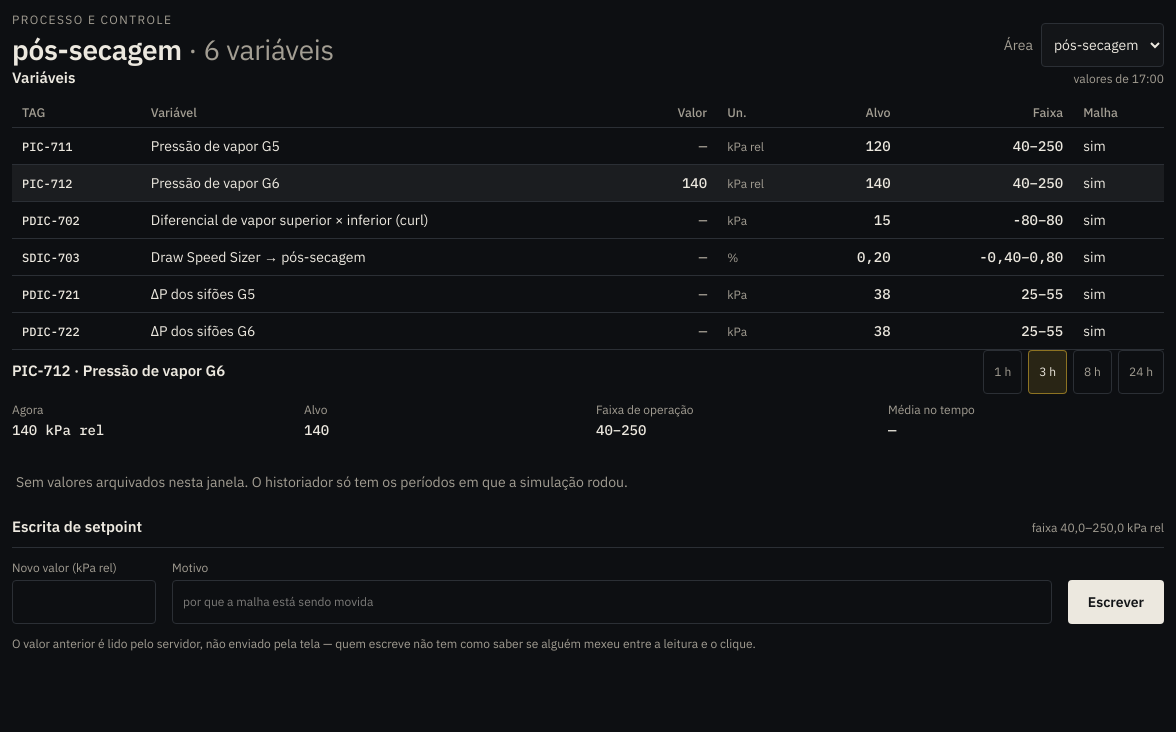
Scenario: Processo · escrita de setpoint › confirma a escrita aceita dizendo o valor anterior
Expected: the button "Escrever" is shown, [1068, 580, 1164, 624]
Type "160" into the field labelled "Novo valor (kPa rel)". click: (84, 602)
box: [12, 580, 156, 624]
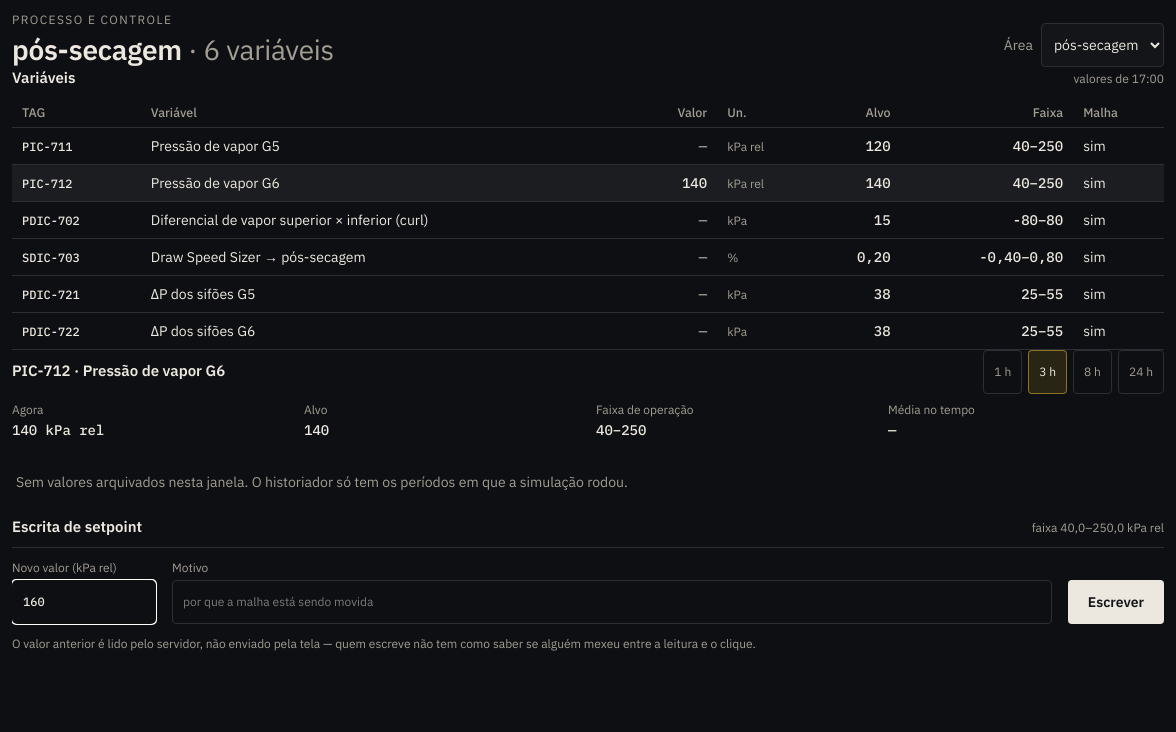
Type "umidade final acima do alvo" into the field labelled "Motivo". click: (612, 602)
box: [172, 580, 1052, 624]
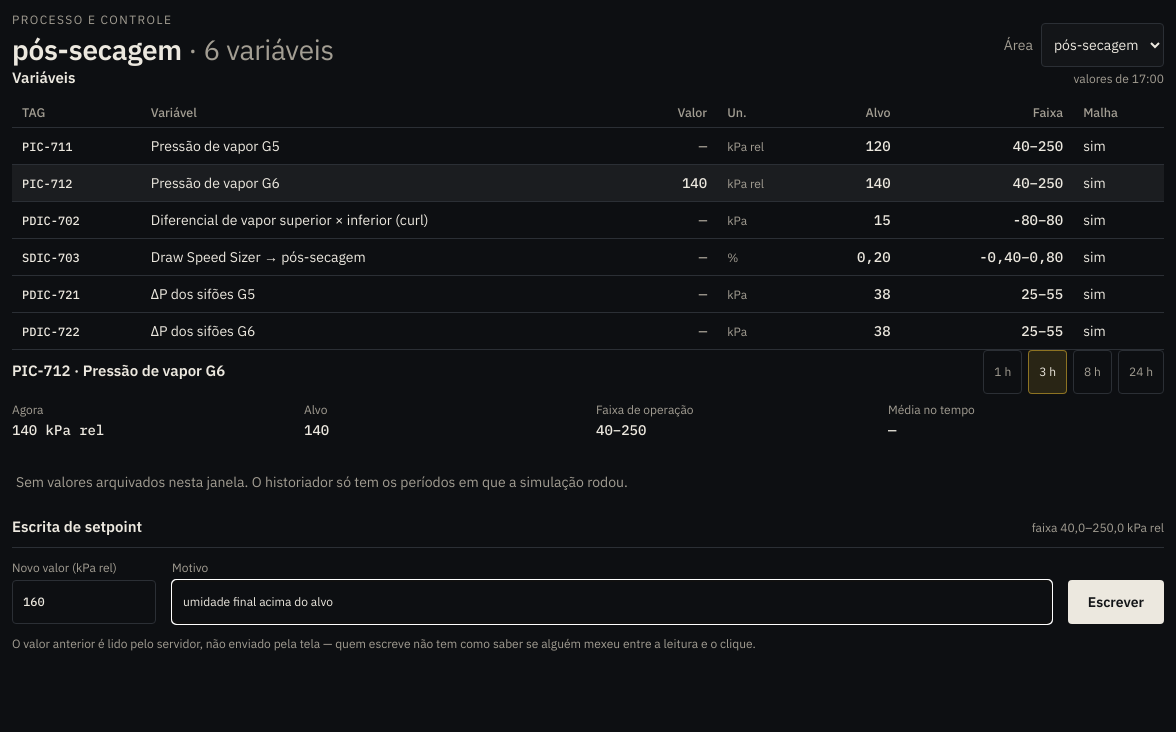
Click the button "Escrever". click: (1116, 602)
box: [1068, 580, 1164, 624]
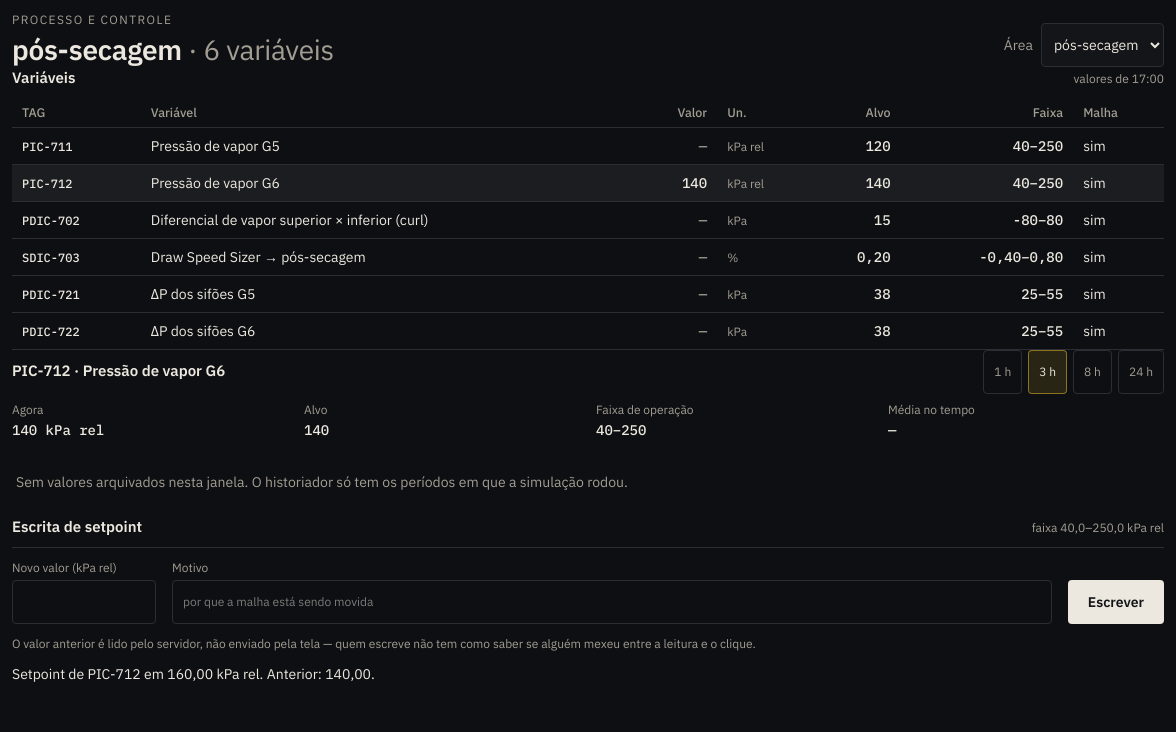
Expected: the text "Setpoint de PIC-712 em 160,00 kPa rel. Anterior: 140,00." is shown, [12, 665, 375, 683]
